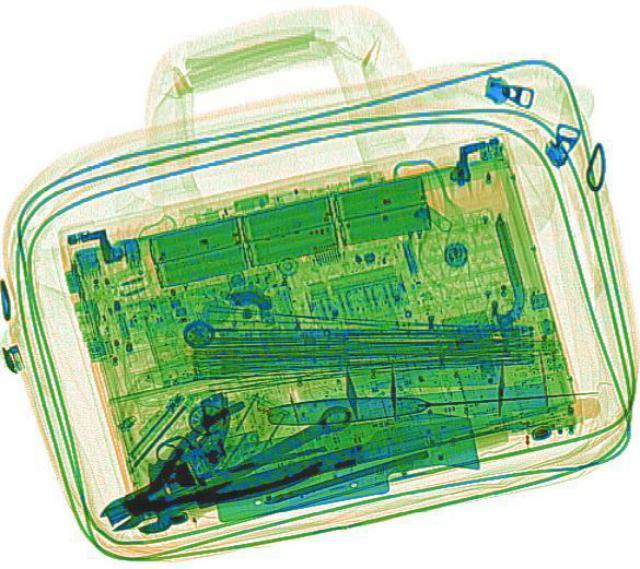Knife: (263, 377, 602, 427)
Pliers: (72, 385, 328, 560)
Wrench: (122, 396, 358, 539)
